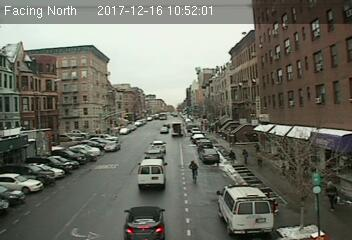bicycle: (188, 157, 201, 186)
car: (122, 207, 166, 238), (199, 148, 221, 163), (147, 140, 166, 150)
pedestrian: (325, 179, 339, 212), (239, 148, 249, 163)
police: (214, 183, 277, 236)
truck: (138, 158, 166, 190)
